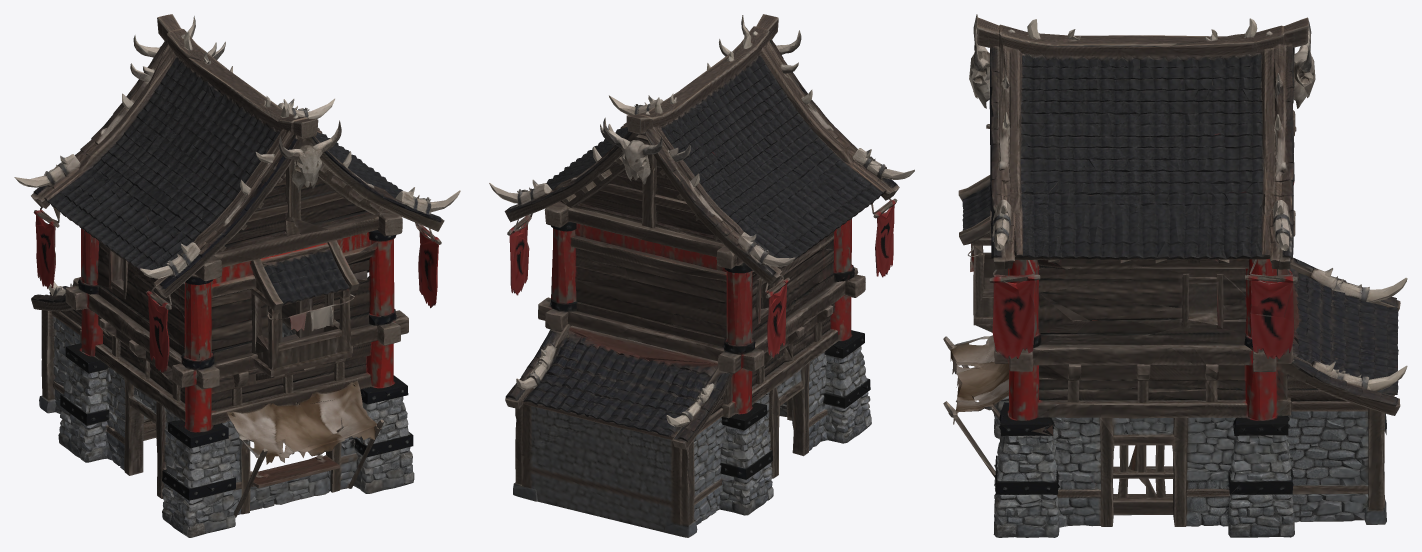
The model's file is house_bal_c.glb.
3 views of the same model, side by side, from view 1: azimuth 30°, elevation 25°; view 2: azimuth 150°, elevation 25°; view 3: azimuth 270°, elevation 25° (orthographic). The views are drawn at different scales.
Parts seen in each view (by area): view 1: house_bal_c; view 2: house_bal_c; view 3: house_bal_c.
Boxes of the visible parts, box(x1,y1,x2,y2) form: house_bal_c: box(14, 14, 460, 537); house_bal_c: box(489, 14, 914, 537); house_bal_c: box(943, 14, 1407, 537).
Size of the model in its own units: 8.44 by 10 by 9.22.
Materials: 1 (1 with a texture image).
